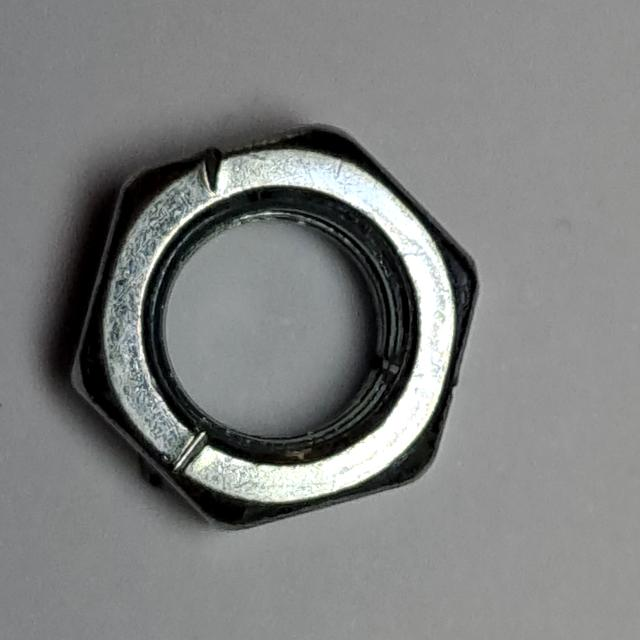Scratches: (51, 113, 489, 547)
